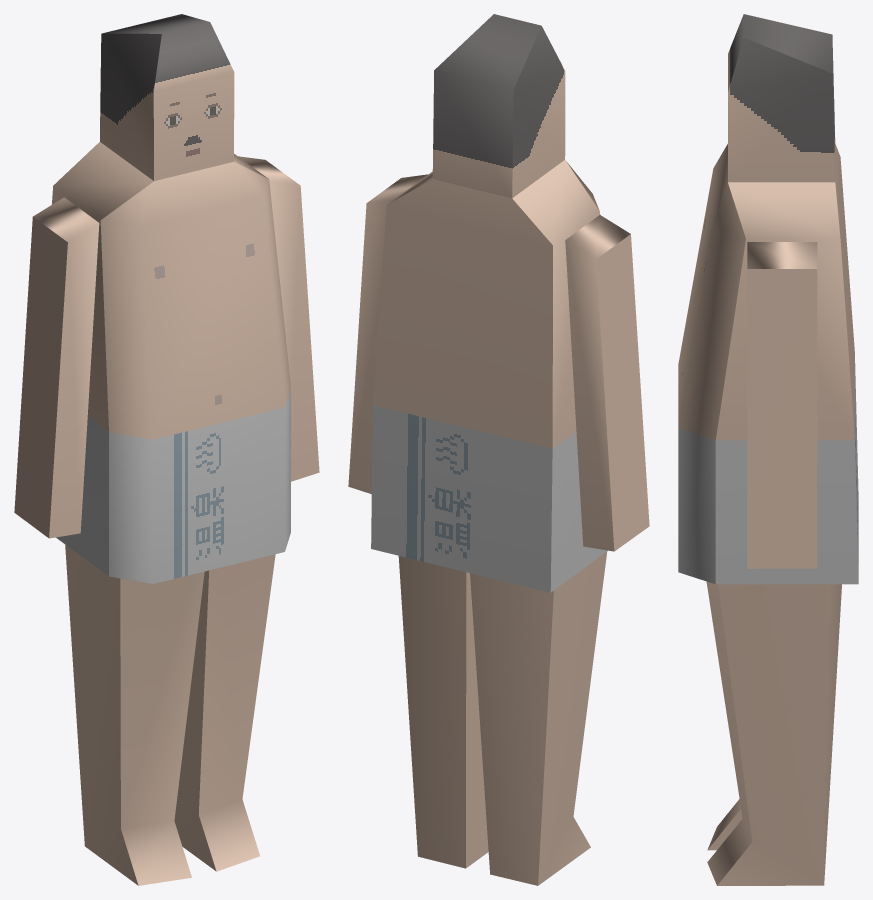
The model's file is 0234_Towel_Guy.glb.
The picture shows the model from 3 angles, left to right: view 1: azimuth 30°, elevation 25°; view 2: azimuth 150°, elevation 25°; view 3: azimuth 270°, elevation 25°; orthographic projection.
Parts seen in each view (by area): view 1: part_0; view 2: part_0; view 3: part_0.
Part boxes in pixels (bbox=[...]): part_0: bbox=[14, 14, 319, 885]; part_0: bbox=[348, 14, 649, 885]; part_0: bbox=[678, 14, 858, 885].
Size of the model in its own units: 0.5902 by 1.74 by 0.3417.
Materials: 1 (1 with a texture image).
